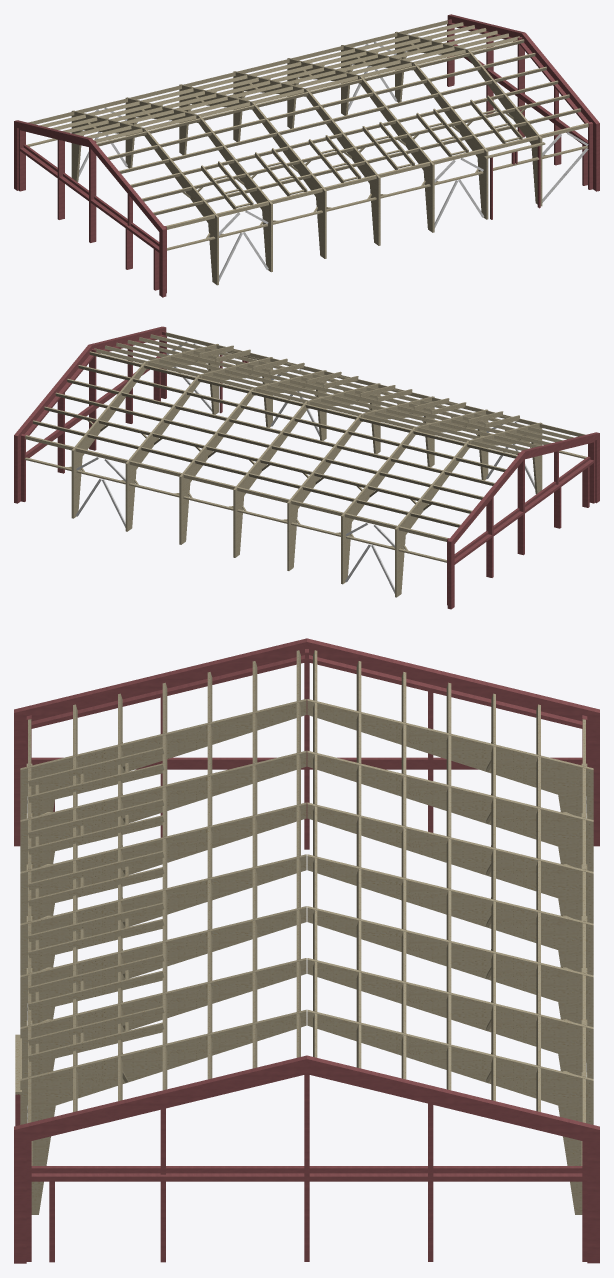
File: Drewno.glb
The picture shows the model from 3 angles, top to bottom: view 1: azimuth 30°, elevation 25°; view 2: azimuth 150°, elevation 25°; view 3: azimuth 270°, elevation 25°; orthographic projection. The views are drawn at different scales.
Parts seen in each view (by area): view 1: X-M3-XX-AR81005W-01-PK_A_LEBA_WAREHOUSE_DREWNO_ifc_0; view 2: X-M3-XX-AR81005W-01-PK_A_LEBA_WAREHOUSE_DREWNO_ifc_0; view 3: X-M3-XX-AR81005W-01-PK_A_LEBA_WAREHOUSE_DREWNO_ifc_0.
Part boxes in pixels (x1=…): X-M3-XX-AR81005W-01-PK_A_LEBA_WAREHOUSE_DREWNO_ifc_0: x1=14, y1=14, x2=599, y2=297; X-M3-XX-AR81005W-01-PK_A_LEBA_WAREHOUSE_DREWNO_ifc_0: x1=14, y1=326, x2=599, y2=609; X-M3-XX-AR81005W-01-PK_A_LEBA_WAREHOUSE_DREWNO_ifc_0: x1=14, y1=638, x2=599, y2=1263.
Bounding box in the file's own units: 47.1 × 10.99 × 27.73.
Materials: 3 (3 with a texture image).
